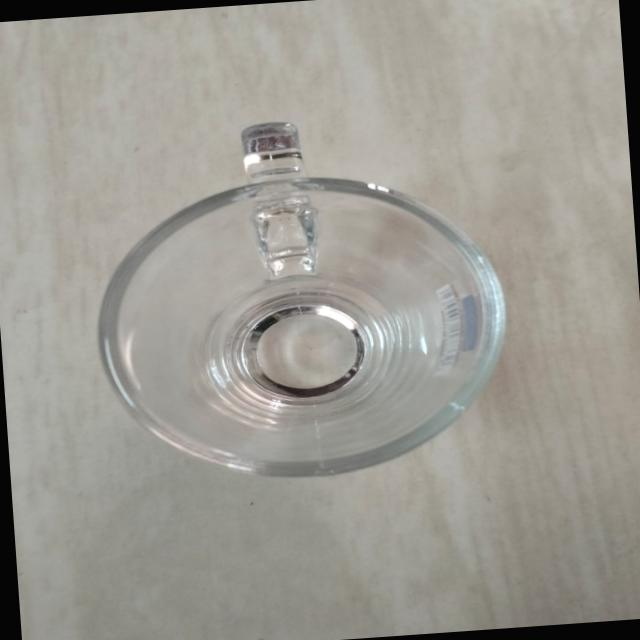glass-VX4N: (68, 96, 522, 502)
